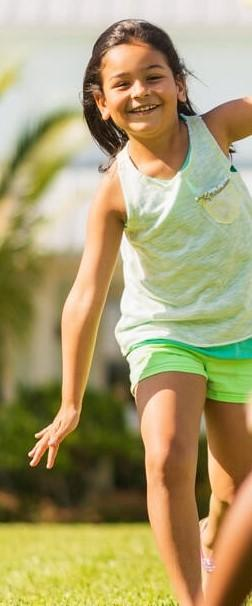Healthy: (79, 31, 198, 146)
